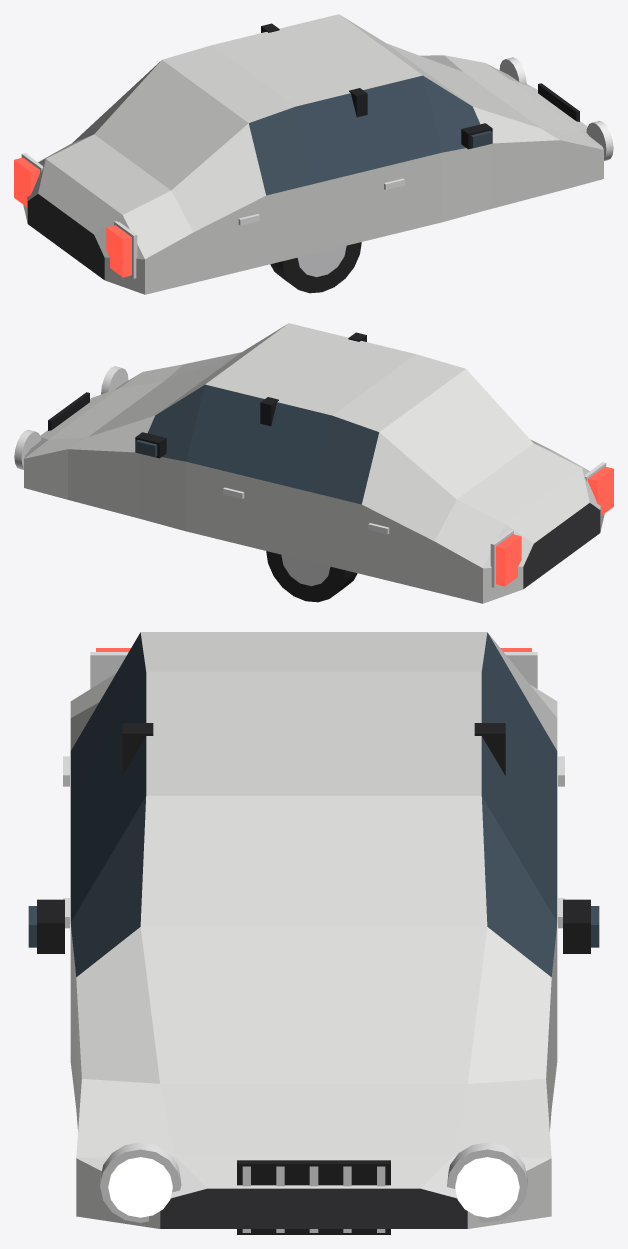
The model's file is cars.glb.
The picture shows the model from 3 angles, top to bottom: view 1: azimuth 30°, elevation 25°; view 2: azimuth 150°, elevation 25°; view 3: azimuth 270°, elevation 25°; orthographic projection. The views are drawn at different scales.
Parts seen in each view (by area): view 1: CarBody, CarWheel; view 2: CarBody, CarWheel; view 3: CarBody.
Boxes of the visible parts, left/top/right/bottom form: CarBody: left=14, top=14, right=613, bottom=294; CarWheel: left=270, top=242, right=361, bottom=293; CarBody: left=14, top=323, right=613, bottom=603; CarWheel: left=266, top=551, right=357, bottom=602; CarBody: left=28, top=632, right=599, bottom=1234.
Bounding box in the file's own units: 4.1 × 1.79 × 2.04.
9 materials, 1 textured.
